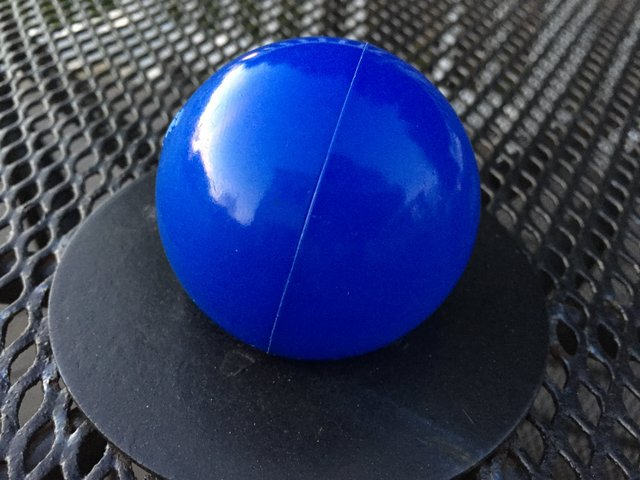Ball: (159, 38, 477, 360)
